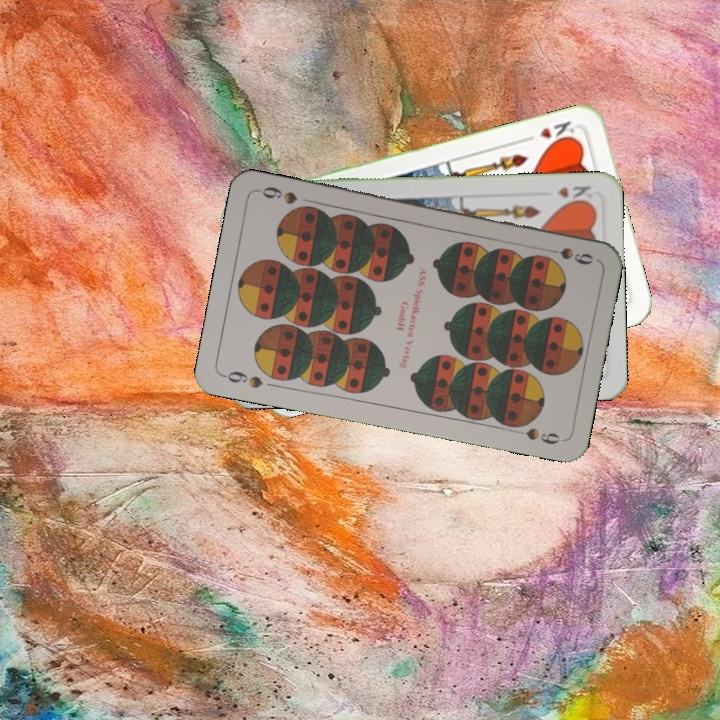HK: (535, 116, 578, 148), (553, 181, 594, 207)
S9: (538, 243, 595, 267), (219, 367, 266, 391)
